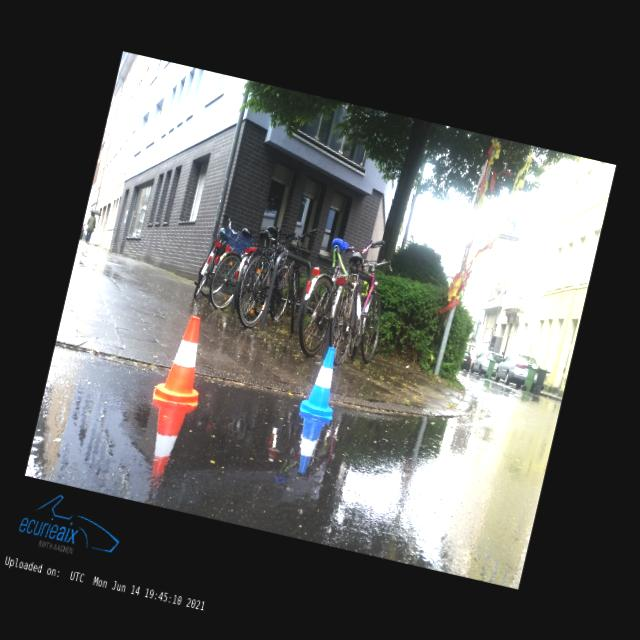blue_cone: (298, 343, 347, 420)
orange_cone: (151, 311, 216, 409)
